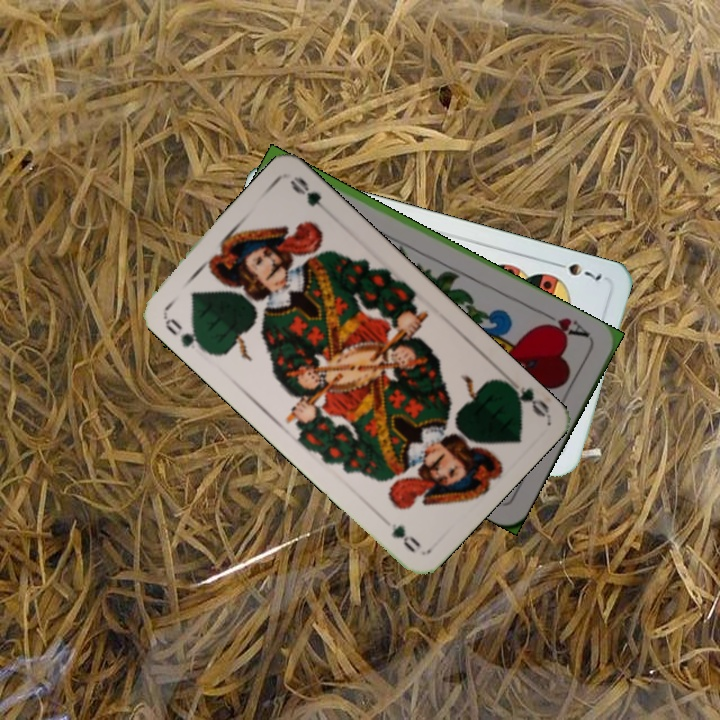GO: (497, 371, 552, 419), (159, 309, 208, 354)
HA: (535, 308, 593, 342)
S7: (549, 258, 605, 283)
